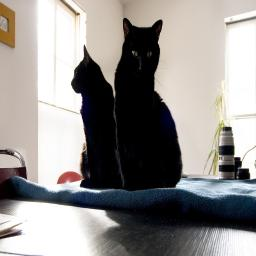catnose: (138, 61, 145, 72), (70, 77, 76, 89)
